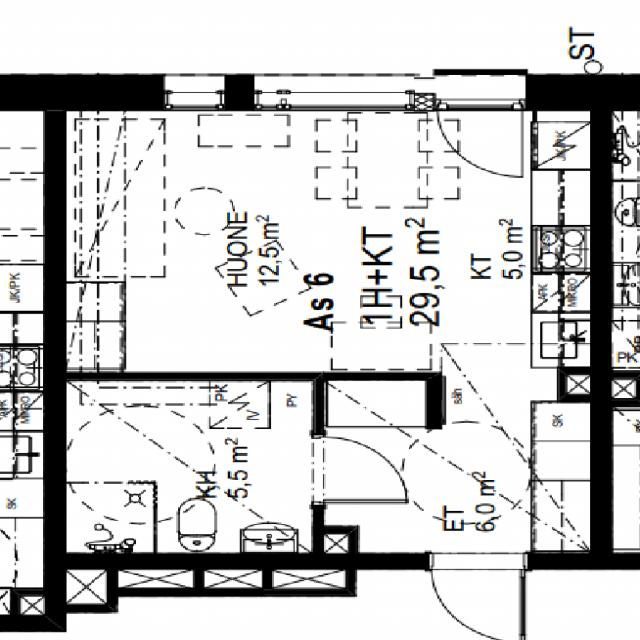door: (438, 74, 522, 178), (431, 552, 524, 640), (312, 437, 408, 502)
